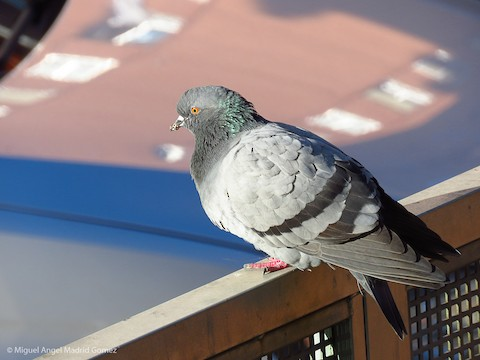pigeon: (168, 82, 470, 342)
